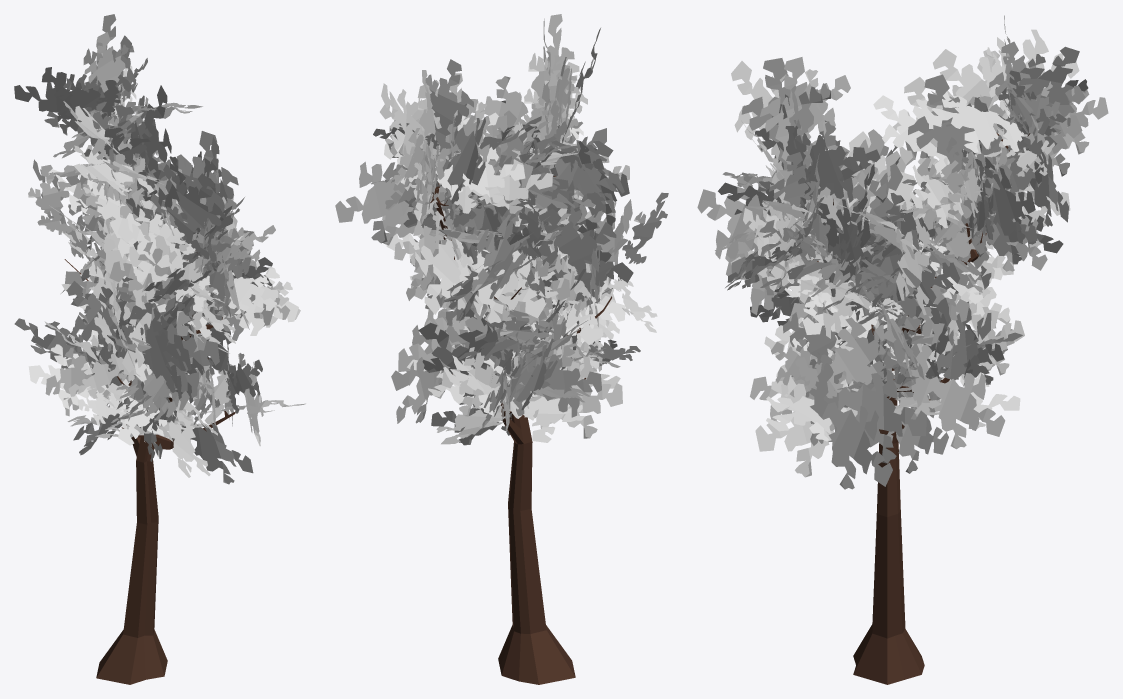
The model's file is Tree.fbx.
3 renders of one model, left to right at view 1: azimuth 30°, elevation 25°; view 2: azimuth 150°, elevation 25°; view 3: azimuth 270°, elevation 25°, orthographic. The views are drawn at different scales.
Visible parts, largest first — view 1: Branches, Trunk; view 2: Branches, Trunk; view 3: Branches, Trunk.
Part boxes in pixels (x1,y1,x2,y2): Branches: [14, 14, 305, 484]; Trunk: [64, 250, 235, 684]; Branches: [335, 14, 668, 445]; Trunk: [430, 176, 611, 684]; Branches: [697, 15, 1108, 489]; Trunk: [813, 133, 1030, 684].
Bounding box in the file's own units: 821 × 2136 × 1199.
